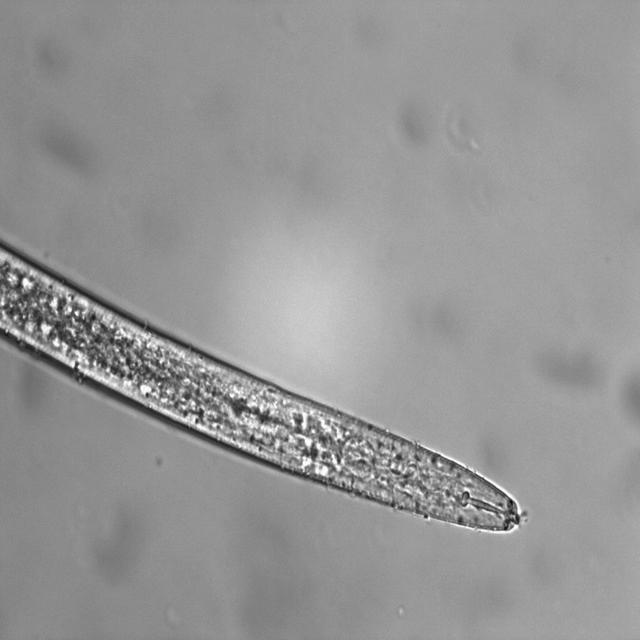Pratylenchus: (0, 225, 525, 537)
